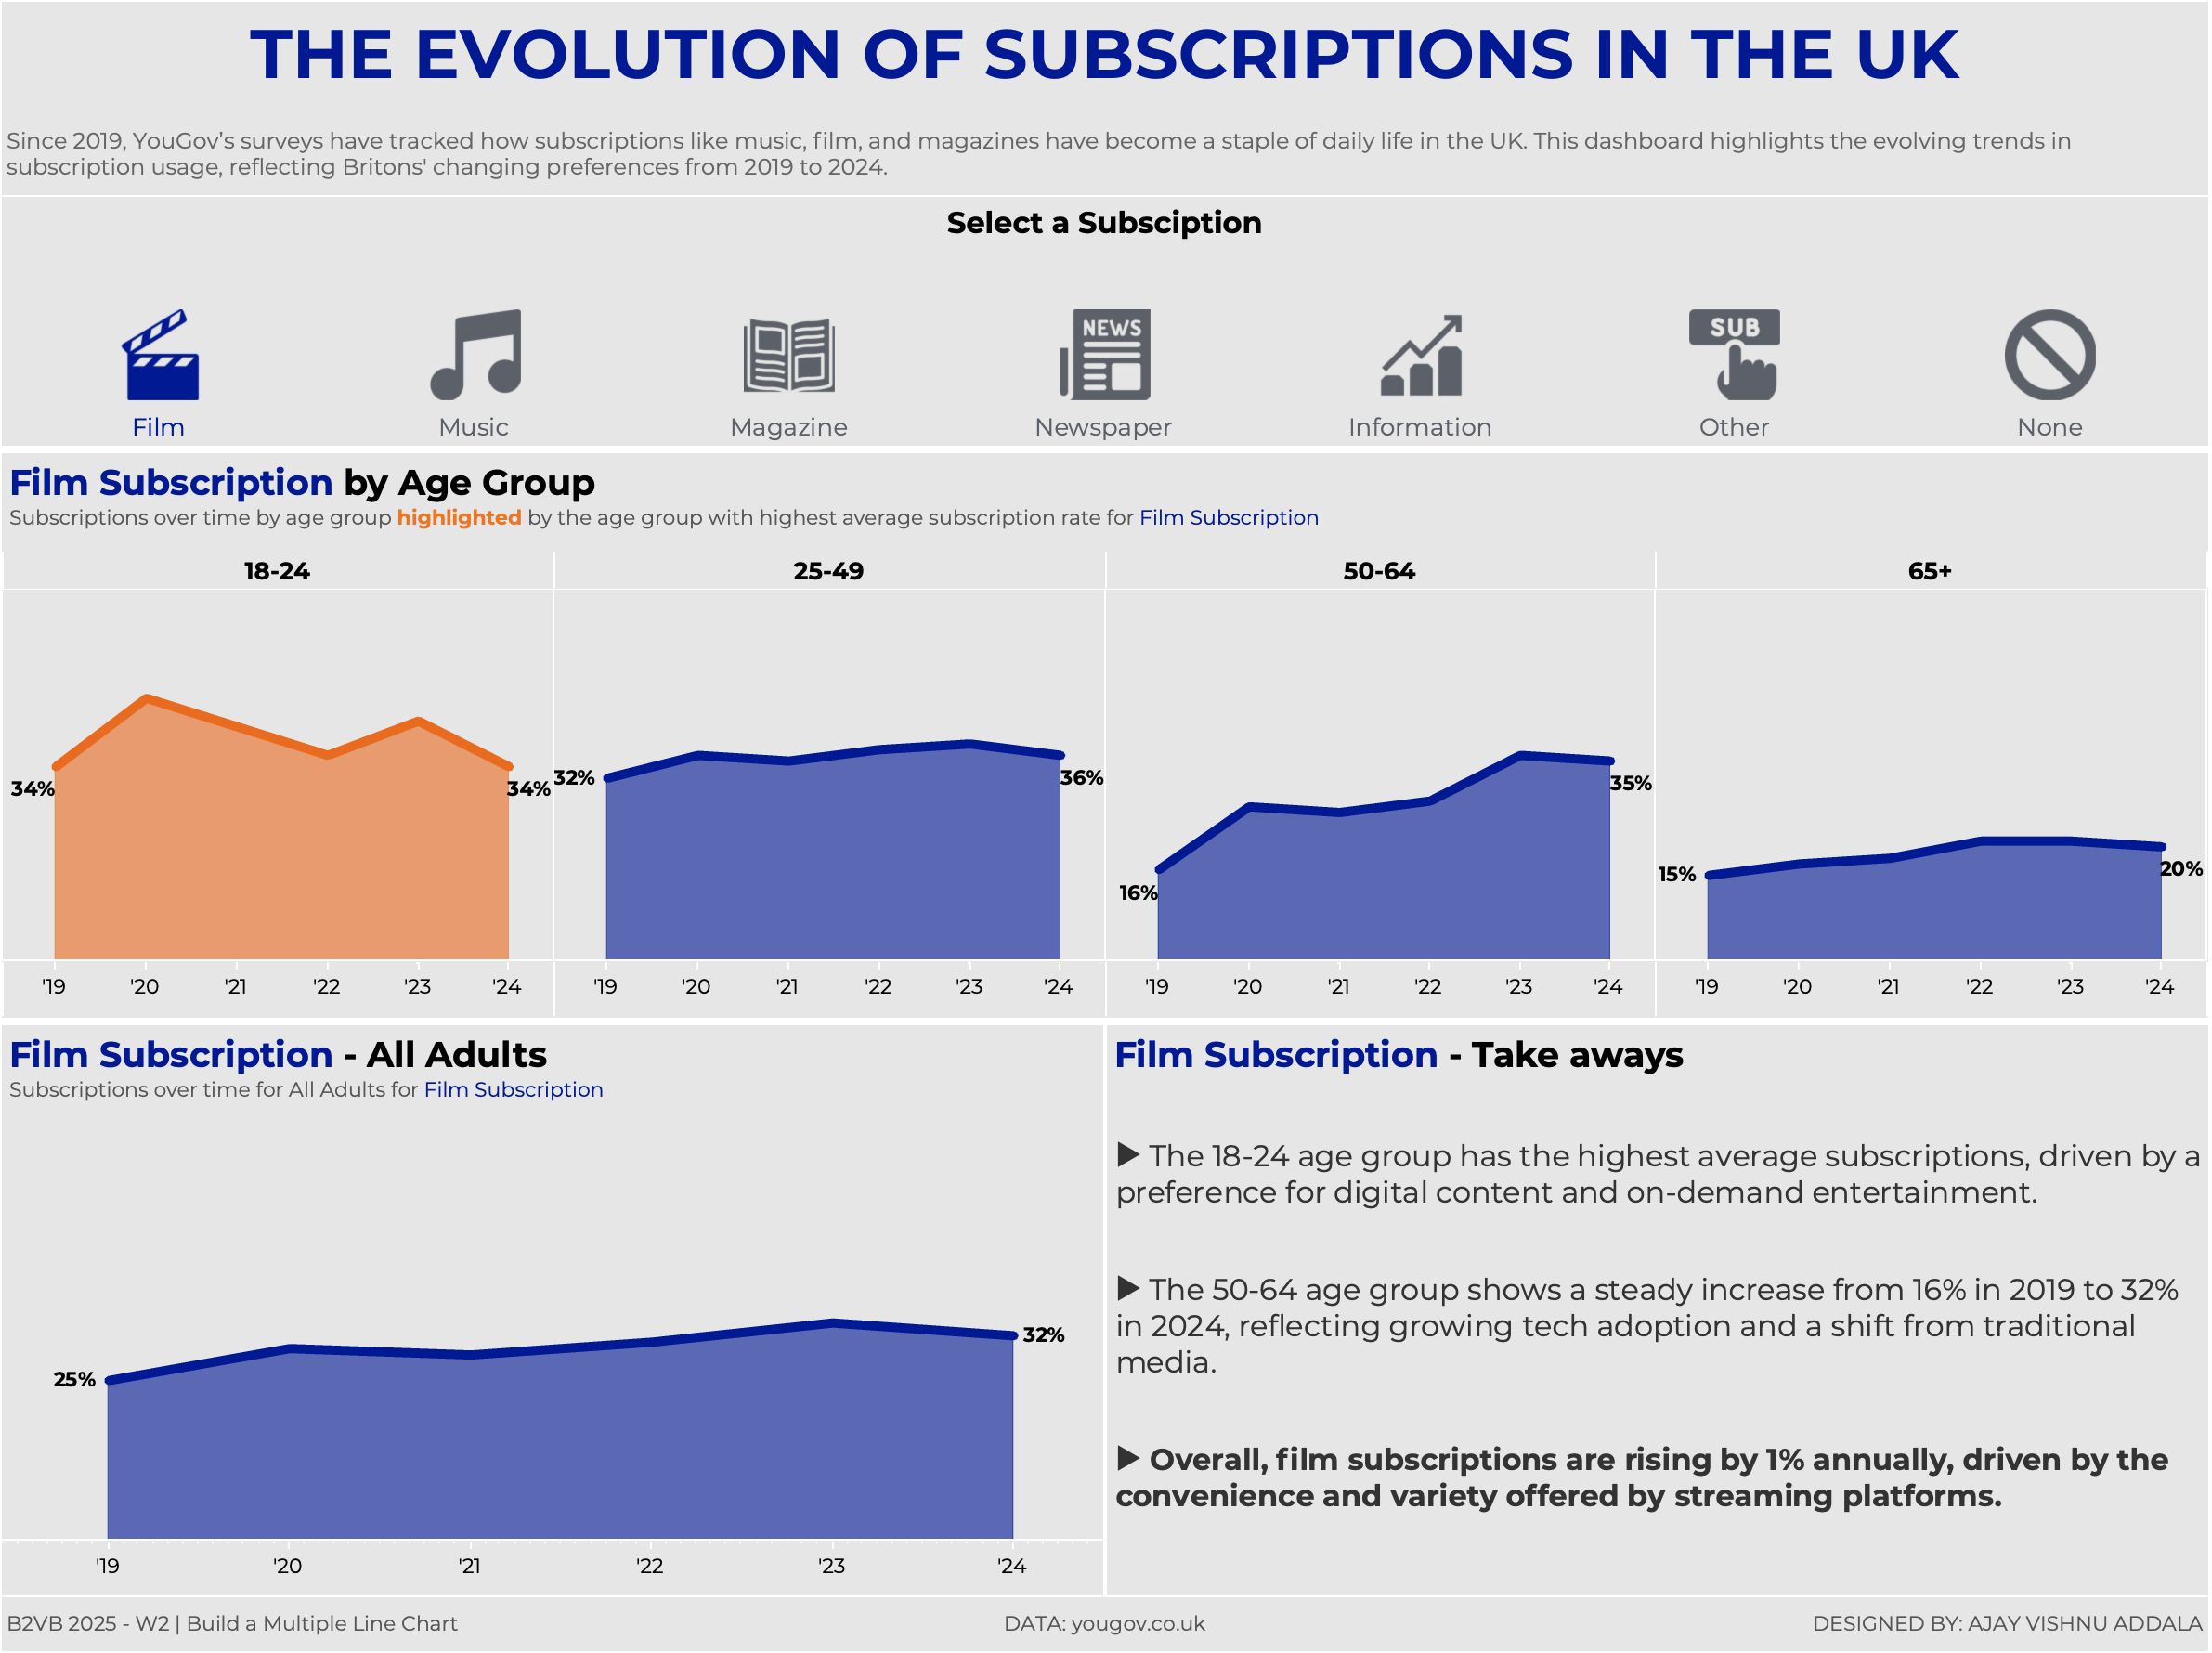

Layout of this report page (visuals, bound fields, positions):
{"tool":"tableau","page":{"name":"Multiple Line Charts","canvas":[1200,900],"ordinal":0},"visuals":[{"type":"text","box":[4,4,1192,106.1]},{"type":"worksheet","title":"Subsc","mark":"Shape","cols":["Subscription"],"box":[4,110.1,1192,137]},{"type":"worksheet","title":"By Age","mark":"Automatic","rows":["Percentage","Percentage"],"cols":["Age","Survey Date"],"box":[4,247.1,1192,307.9]},{"type":"worksheet","title":"All Adults","mark":"Automatic","rows":["Percentage","Percentage"],"cols":["Age","Survey Date"],"box":[4,555,596,309]},{"type":"worksheet","title":"Text","mark":"Automatic","box":[600,555,596,309]},{"type":"text","box":[4,864,298,32]},{"type":"text","box":[302,864,596,32]},{"type":"text","box":[898,864,298,32]}]}

Visuals, with their boxes in screenshot pixels (x1, y1, x2, y2), scaled from the page's 1200x900 canvas onto the 2212x1653 screenshot:
text: locate(7, 7, 2205, 202)
"Subsc" worksheet (Shape marks): locate(7, 202, 2205, 454)
"By Age" worksheet: locate(7, 454, 2205, 1020)
"All Adults" worksheet: locate(7, 1020, 1106, 1587)
"Text" worksheet: locate(1106, 1020, 2205, 1587)
text: locate(7, 1587, 556, 1646)
text: locate(556, 1587, 1656, 1646)
text: locate(1656, 1587, 2205, 1646)
